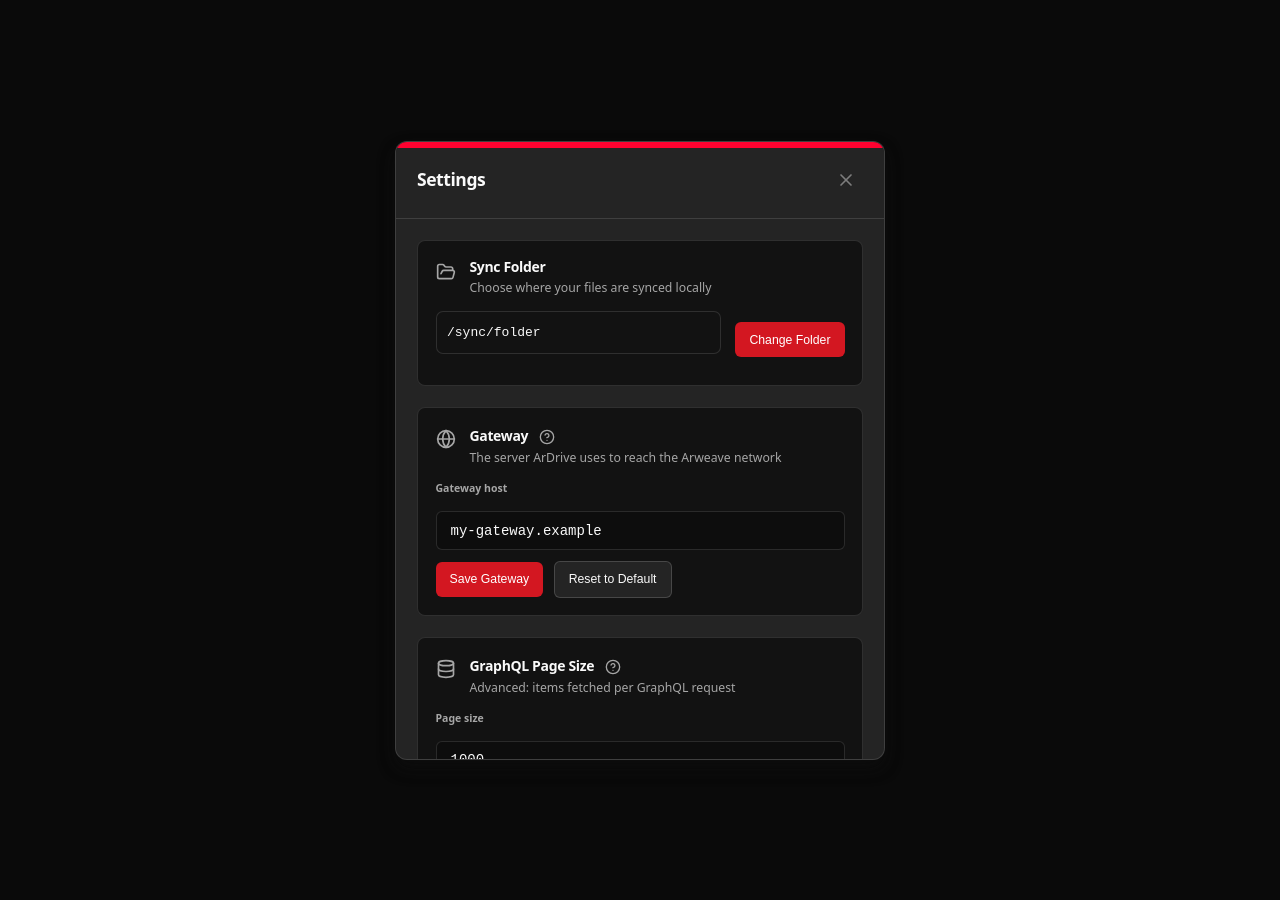
Test: Settings — Gateway host (INFO-3) › "Reset to Default" saves turbo-gateway.com directly
Click the button "Reset to Default". click: (613, 579)
box: [554, 560, 672, 598]
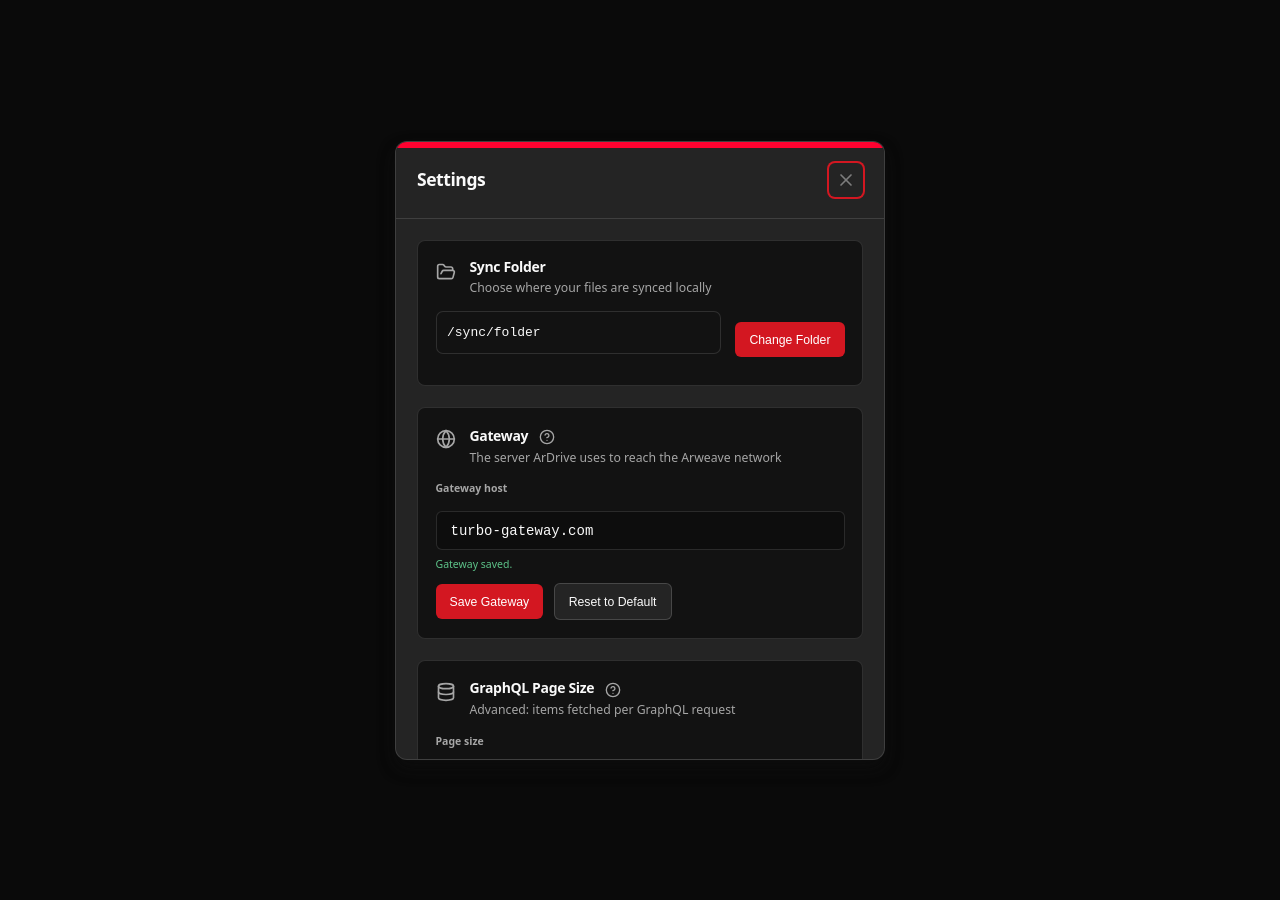
Expected: the field labelled "Gateway host" holds "turbo-gateway.com", [436, 511, 844, 550]
